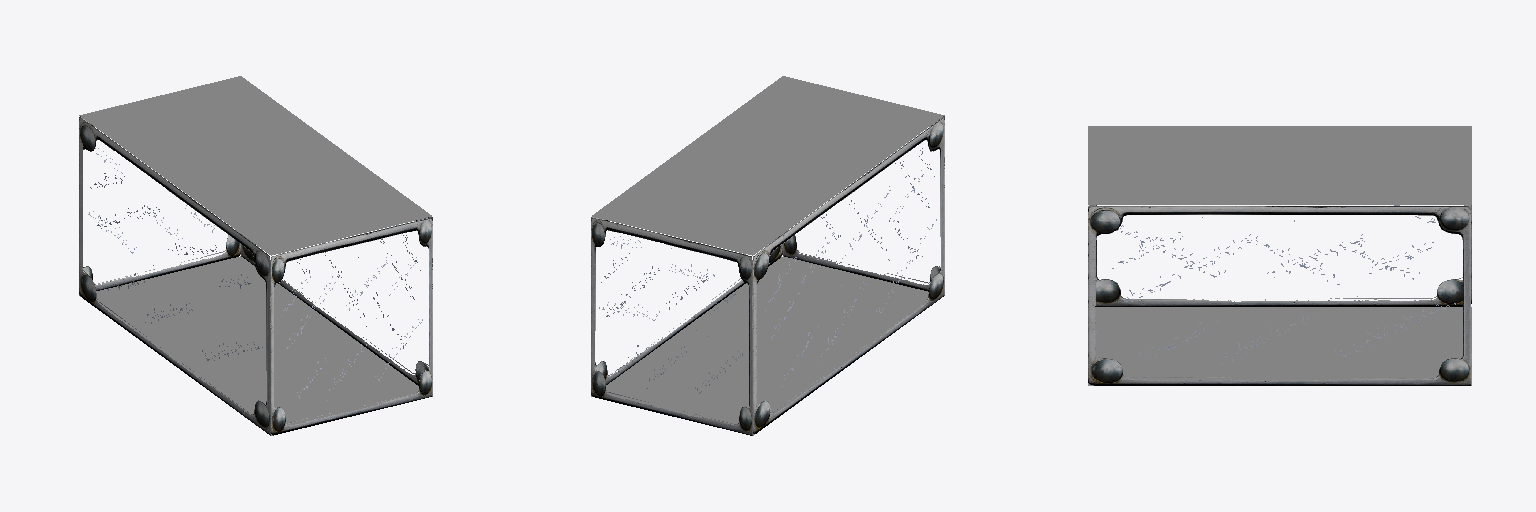
3 views of the same model, side by side, from view 1: azimuth 30°, elevation 25°; view 2: azimuth 150°, elevation 25°; view 3: azimuth 270°, elevation 25° (orthographic).
Parts seen in each view (by area): view 1: Box001; view 2: Box001; view 3: Box001.
Boxes of the visible parts, <box> form: Box001: <box>79,76,432,435</box>; Box001: <box>591,76,944,435</box>; Box001: <box>1088,126,1471,385</box>.
Size of the model in its own units: 31.96 by 34.01 by 65.6.
Materials: 6 (1 with a texture image).